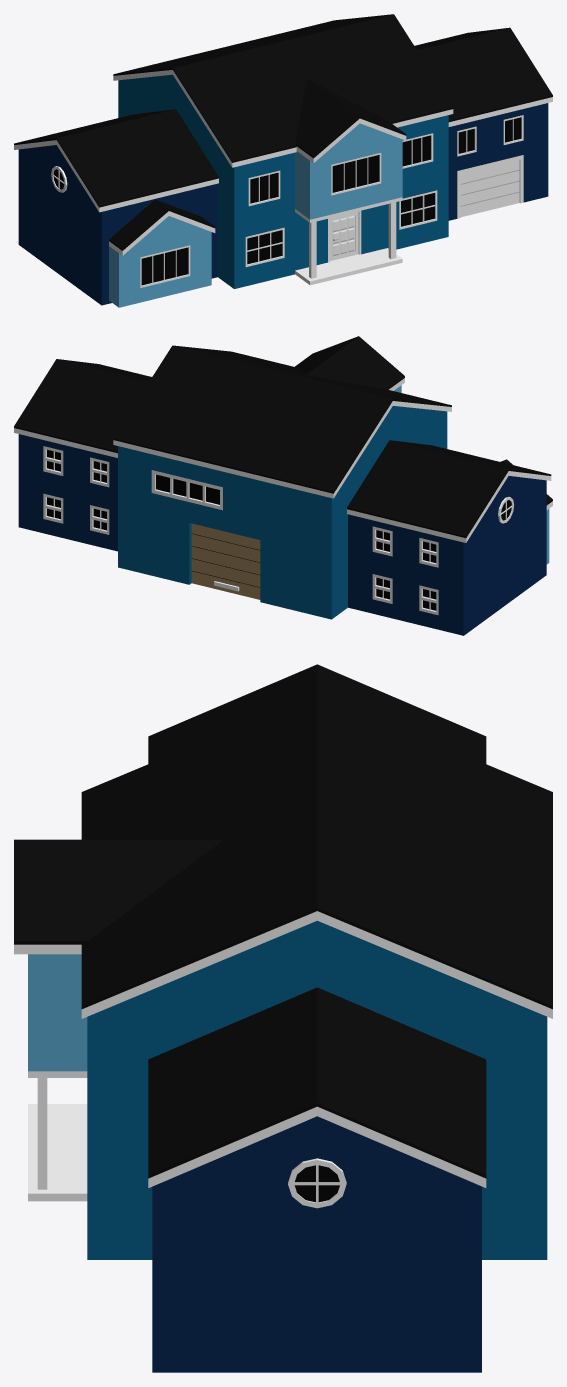
The model's file is House-22.fbx.
The picture shows the model from 3 angles, top to bottom: view 1: azimuth 30°, elevation 25°; view 2: azimuth 150°, elevation 25°; view 3: azimuth 270°, elevation 25°; orthographic projection. The views are drawn at different scales.
Visible parts, largest first — view 1: Cube; view 2: Cube; view 3: Cube.
Part boxes in pixels (x1,y1,x2,y2): Cube: (14, 14, 552, 307); Cube: (14, 336, 552, 635); Cube: (14, 664, 552, 1372).
Size of what is drawn, in the model's own units: 30.63 by 11.58 by 15.89.
